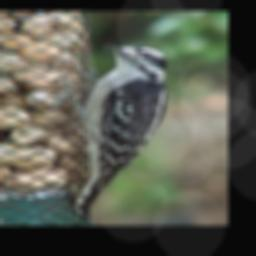Woodpecker: (51, 41, 182, 221)
